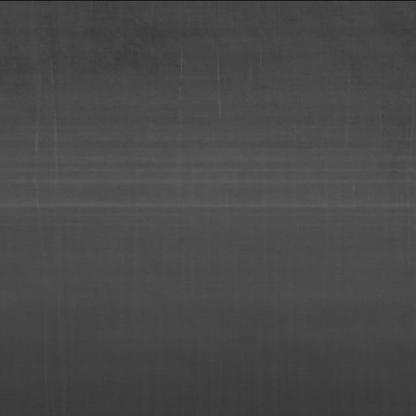waist_folding: (20, 94, 364, 237)
